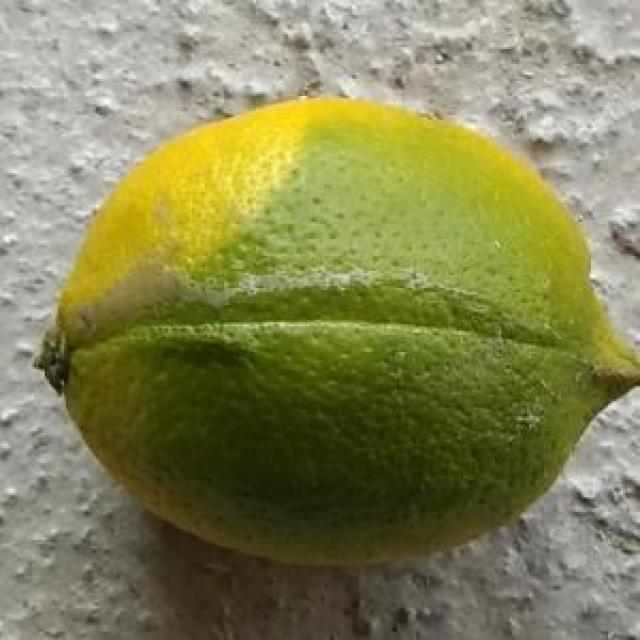lemon: (22, 96, 640, 578)
